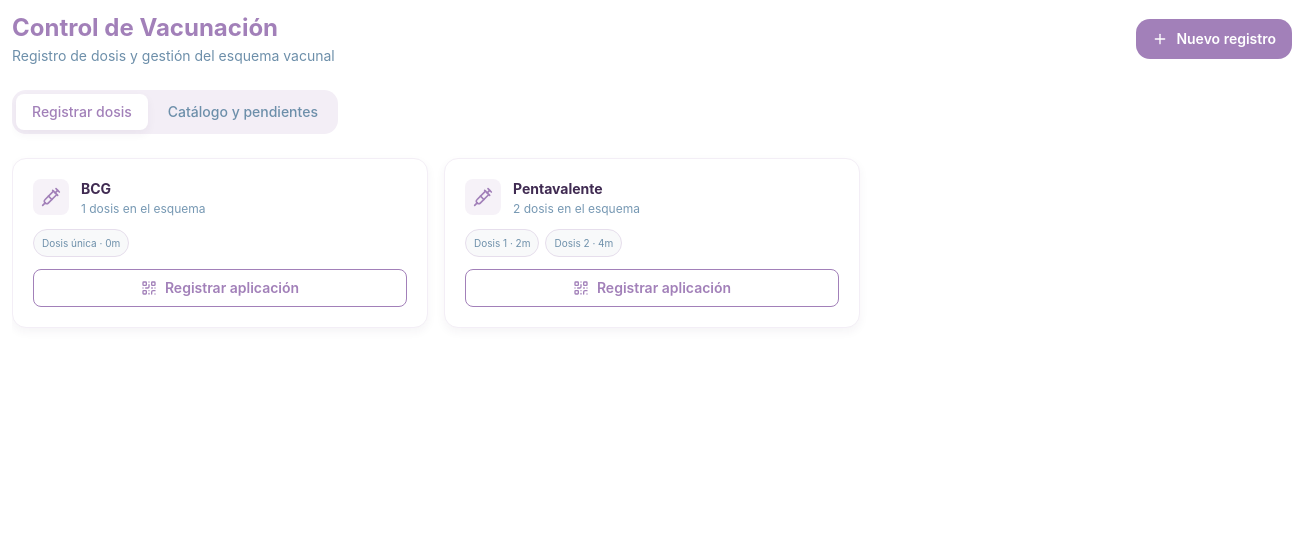
Test: VaccinationView – catálogo y pendientes › panel de pacientes pendientes › busca pacientes en el rango que no tienen la dosis, del más viejo al más joven
Check: the heading "Control de Vacunación" is shown, box x1=12 y1=13 x2=278 y2=42
Click the button "Catálogo y pendientes": (243, 112) x1=152 y1=94 x2=334 y2=130
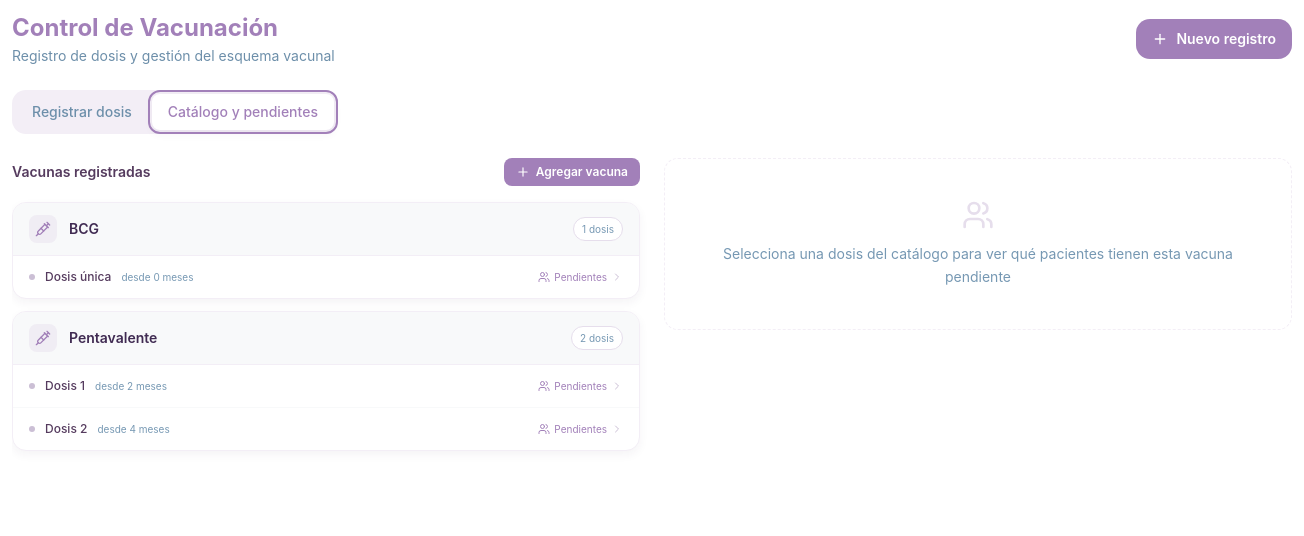
Click the button "Dosis 1 desde 2 meses Pendientes": (65, 386) x1=13 y1=365 x2=639 y2=408
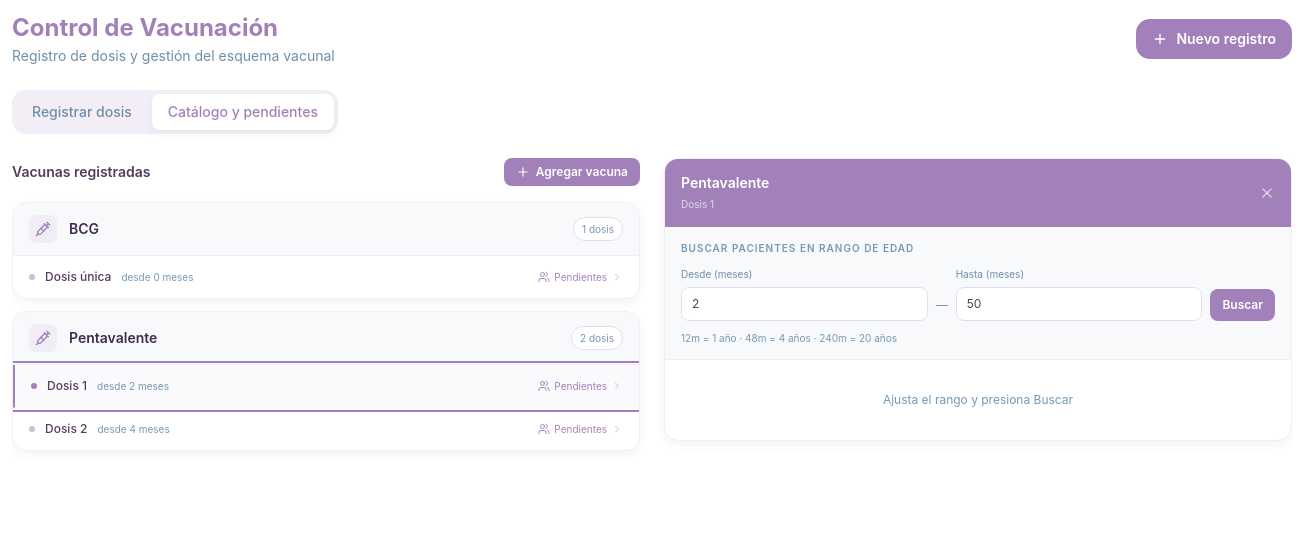
Click the button "Buscar": (1243, 305) x1=1210 y1=289 x2=1275 y2=321
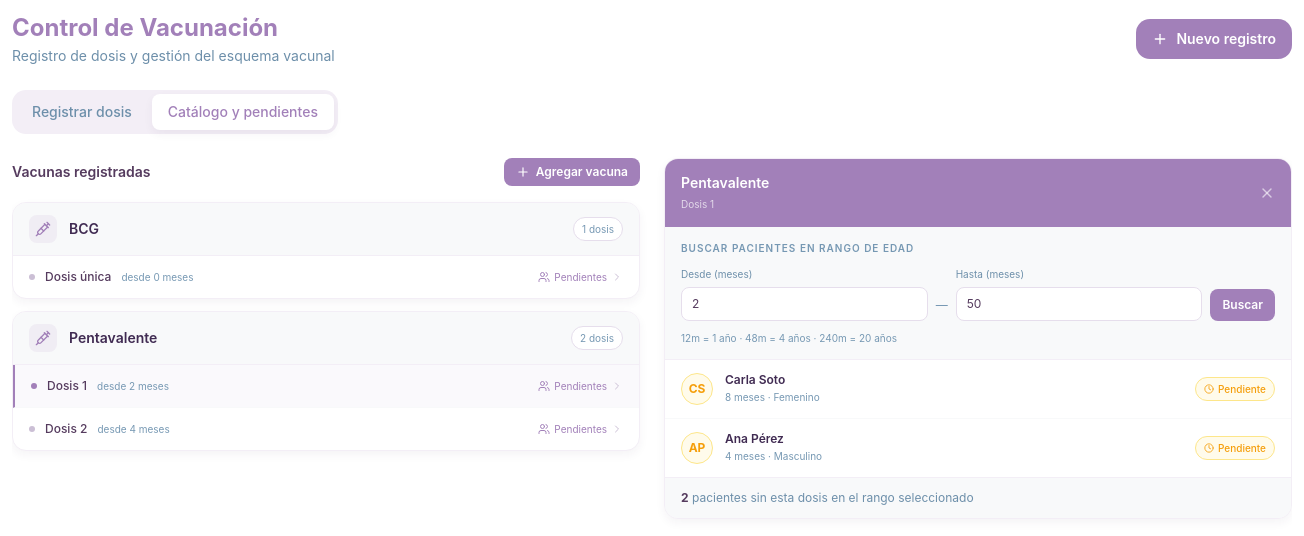
Check: the text "Carla Soto" is shown, box x1=725 y1=372 x2=785 y2=387
Check: the text "8 meses · Femenino" is shown, box x1=725 y1=391 x2=820 y2=403
Check: the text "4 meses · Masculino" is shown, box x1=725 y1=450 x2=822 y2=462
